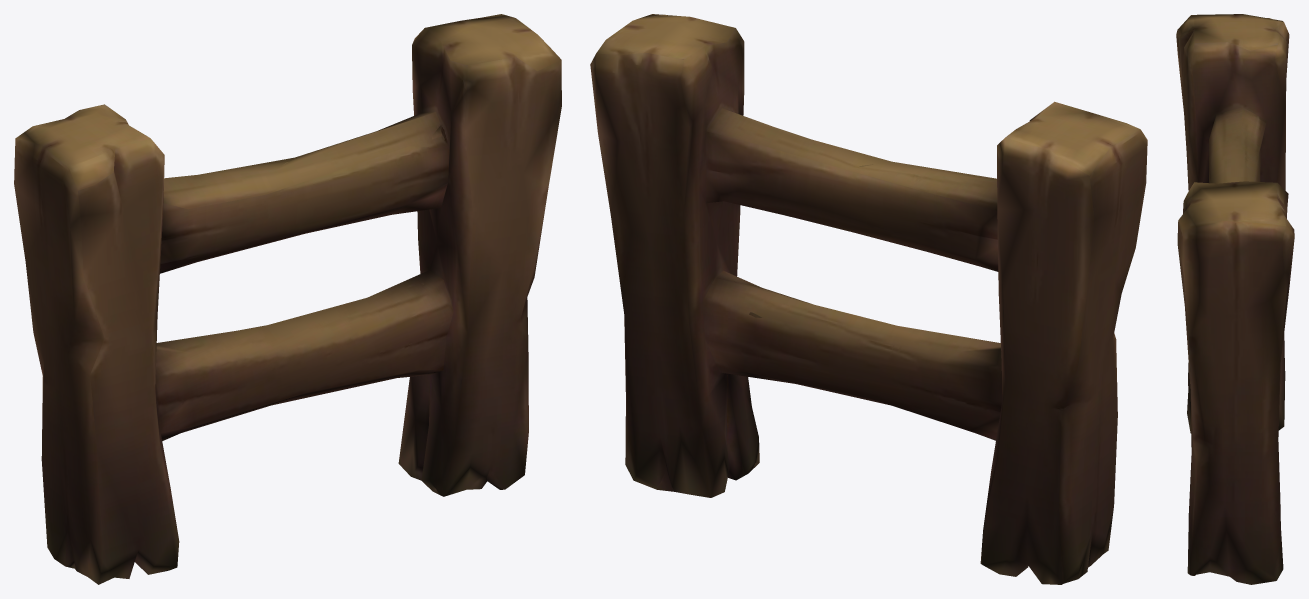
File: fence.glb
3 renders of one model, left to right at view 1: azimuth 30°, elevation 25°; view 2: azimuth 150°, elevation 25°; view 3: azimuth 270°, elevation 25°, orthographic. The views are drawn at different scales.
Parts seen in each view (by area): view 1: geometry_0; view 2: geometry_0; view 3: geometry_0.
Part boxes in pixels (x1,y1,x2,y2): geometry_0: (14,14,561,584); geometry_0: (590,14,1147,584); geometry_0: (1176,14,1294,584).
Bounding box in the file's own units: 1.19 × 1 × 0.2791.
1 material, 1 textured.
